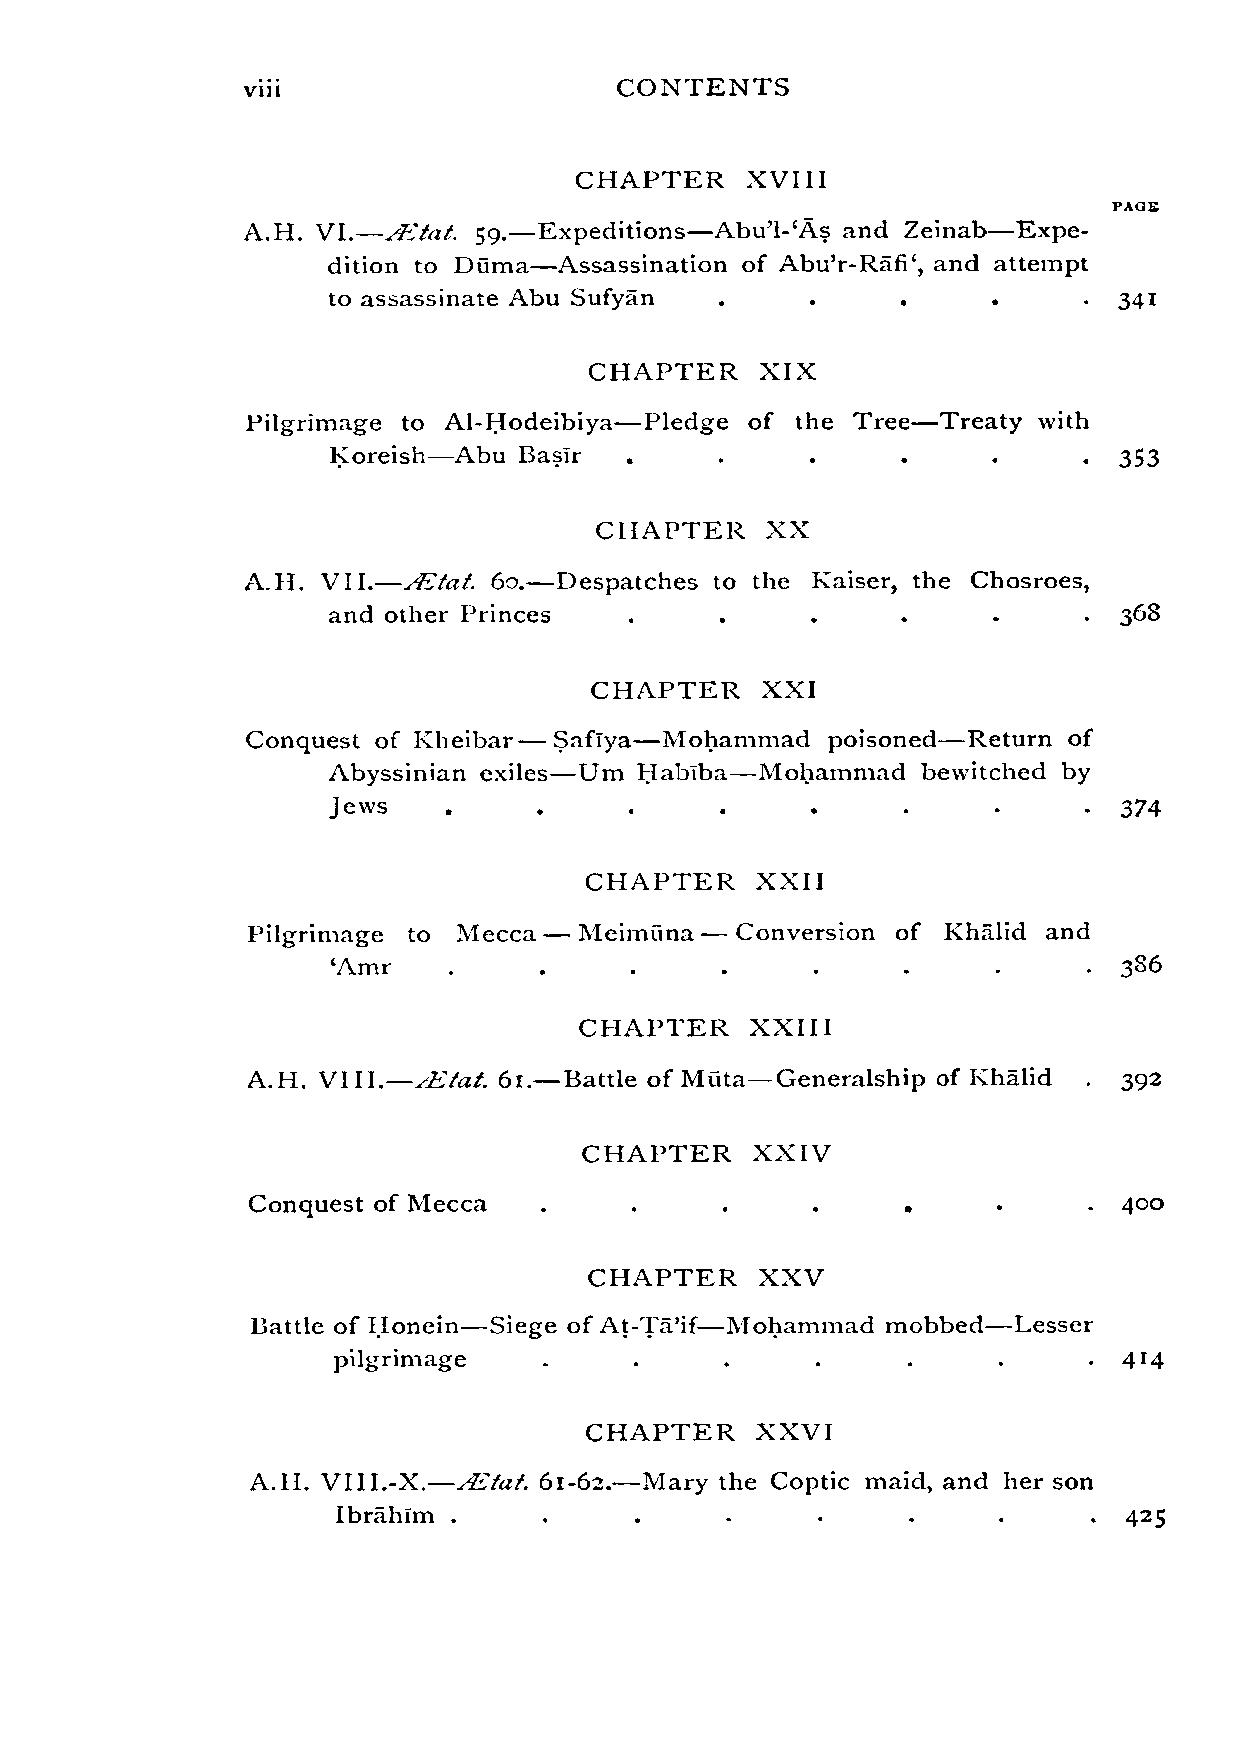TOC_chapter: (231, 727, 1100, 832), (235, 212, 1102, 314), (235, 1300, 1099, 1378), (242, 1461, 1095, 1534), (238, 917, 1096, 985), (242, 409, 1102, 475), (231, 568, 1100, 628), (247, 1062, 1056, 1106), (569, 344, 829, 395), (560, 154, 839, 199), (242, 1182, 488, 1231), (570, 1001, 836, 1045), (585, 505, 825, 553), (581, 667, 825, 713), (576, 859, 836, 896), (578, 1410, 837, 1445), (569, 1134, 836, 1168), (578, 1257, 823, 1290)
TOC_pagenumber: (1117, 939, 1177, 993), (1111, 274, 1164, 323), (1111, 590, 1168, 635), (1121, 1053, 1169, 1104), (1118, 1333, 1168, 1378), (1114, 786, 1162, 829), (1114, 1189, 1176, 1223), (1123, 1496, 1176, 1533), (1118, 436, 1168, 470)
chapter: (609, 68, 798, 102)
